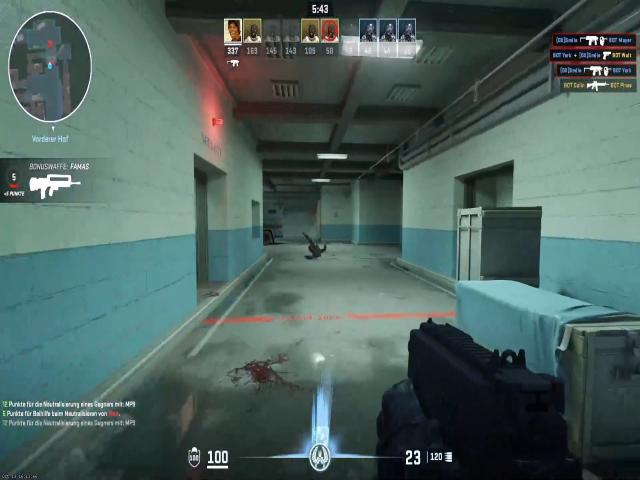Dead: (303, 233, 328, 263)
